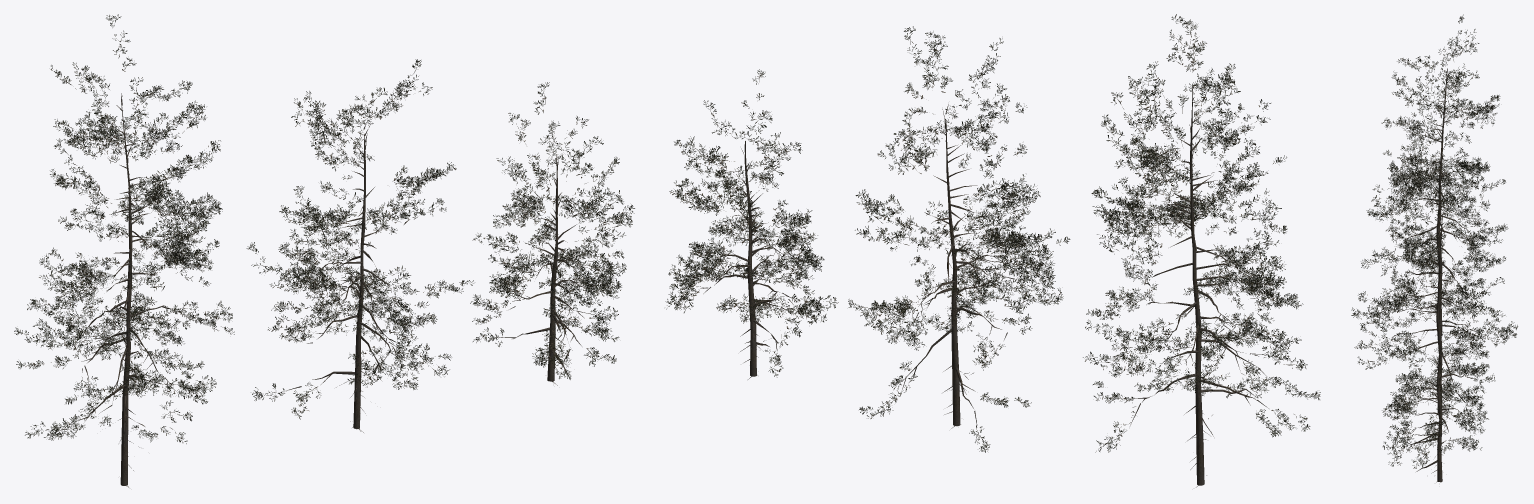
File: sapling.glb
3 views of the same model, side by side, from view 1: azimuth 30°, elevation 25°; view 2: azimuth 150°, elevation 25°; view 3: azimuth 270°, elevation 25° (orthographic). The views are drawn at different scales.
Parts seen in each view (by area): view 1: pine_sapling_medium_a_LOD0; view 2: pine_sapling_medium_a_LOD0; view 3: pine_sapling_medium_a_LOD0.
Part boxes in pixels (x1,y1,x2,y2): pine_sapling_medium_a_LOD0: (14, 14, 634, 487); pine_sapling_medium_a_LOD0: (665, 14, 1320, 487); pine_sapling_medium_a_LOD0: (1351, 14, 1517, 482).
Size of the model in its own units: 15.48 by 11.48 by 5.38.
Materials: 3 (3 with a texture image).
